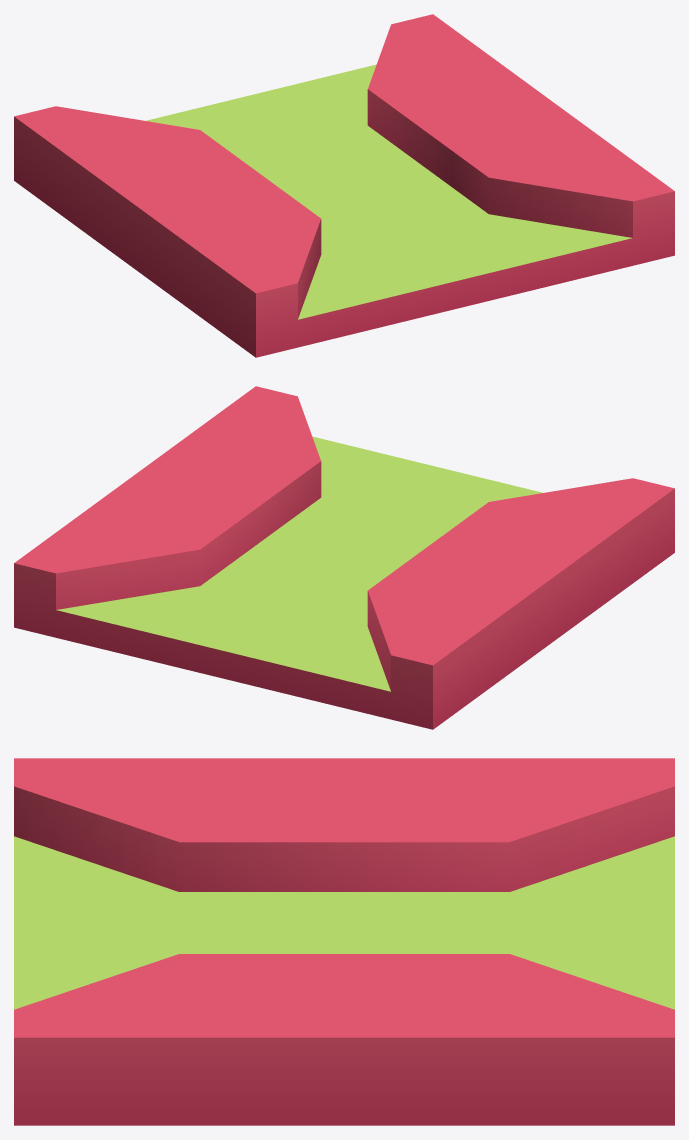
File: narrow-square.fbx
3 views of the same model, one above another, from view 1: azimuth 30°, elevation 25°; view 2: azimuth 150°, elevation 25°; view 3: azimuth 270°, elevation 25° (orthographic). The views are drawn at different scales.
Visible parts, largest first — view 1: narrow_square; view 2: narrow_square; view 3: narrow_square.
Part boxes in pixels (x1=…): narrow_square: x1=14, y1=14, x2=674, y2=357; narrow_square: x1=14, y1=386, x2=674, y2=729; narrow_square: x1=14, y1=758, x2=674, y2=1125.
Size of the model in its own units: 99.99 by 14.67 by 99.99.
